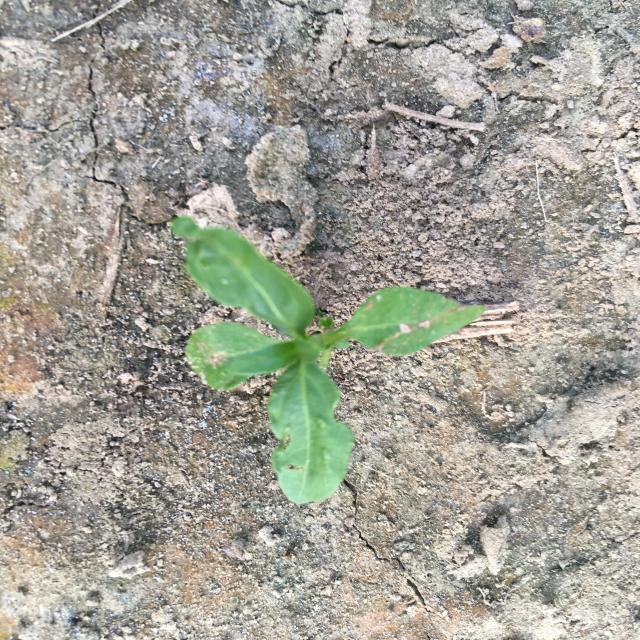Eclipta: (170, 216, 486, 504)
